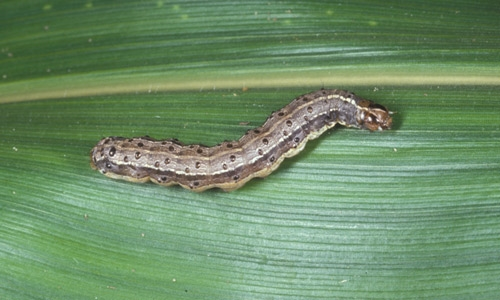Armyworm: (82, 82, 416, 199)
